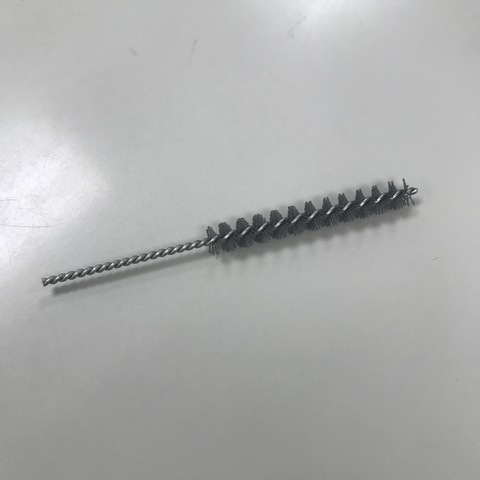Twist Brush-A: (40, 179, 419, 293)
